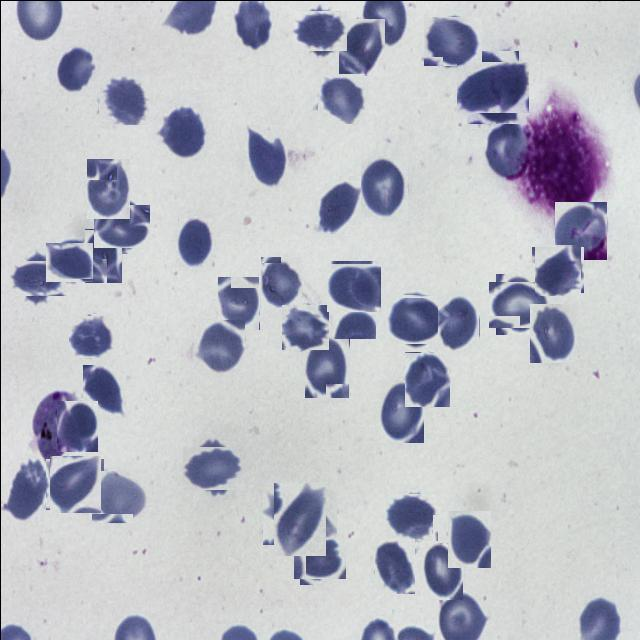red blood cell: (268, 486, 330, 550), (462, 56, 524, 118), (92, 468, 148, 524), (46, 456, 102, 511), (388, 291, 443, 346), (554, 201, 606, 259), (360, 154, 408, 216), (492, 276, 546, 331), (425, 13, 479, 67), (378, 379, 423, 442), (187, 441, 240, 494), (195, 318, 245, 374), (304, 335, 349, 397), (529, 303, 576, 362), (483, 119, 529, 179), (4, 458, 46, 523), (338, 18, 385, 76), (243, 124, 286, 187), (326, 261, 378, 313), (86, 157, 130, 218), (386, 492, 436, 542), (96, 200, 146, 250), (532, 244, 582, 294), (158, 105, 205, 158), (404, 351, 449, 406), (315, 180, 360, 235), (447, 510, 490, 567), (98, 75, 148, 124), (316, 73, 365, 123), (420, 542, 462, 599), (437, 293, 479, 350), (332, 284, 376, 338), (82, 364, 125, 418), (260, 255, 302, 309), (217, 275, 259, 329), (296, 534, 343, 581), (296, 6, 342, 54), (374, 538, 414, 593), (281, 303, 327, 350), (14, 254, 60, 300), (54, 42, 96, 92), (56, 400, 97, 451), (84, 228, 122, 282), (69, 314, 113, 358), (46, 240, 90, 284), (177, 217, 211, 266)
ring: (30, 388, 74, 459)
